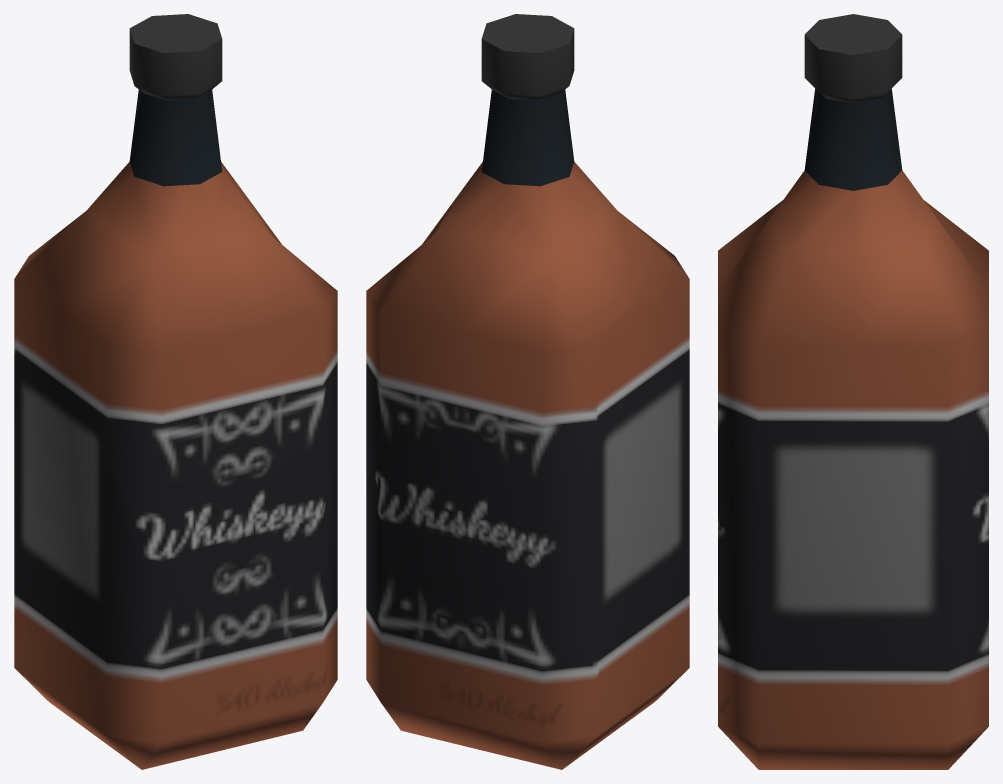
The model's file is Whiskey_01.fbx.
3 renders of one model, left to right at view 1: azimuth 30°, elevation 25°; view 2: azimuth 150°, elevation 25°; view 3: azimuth 270°, elevation 25°, orthographic.
Parts seen in each view (by area): view 1: Whiskey_01; view 2: Whiskey_01; view 3: Whiskey_01.
Boxes of the visible parts, <box> form: Whiskey_01: <box>14,14,337,769</box>; Whiskey_01: <box>366,14,689,769</box>; Whiskey_01: <box>718,14,988,769</box>.
Size of the model in its own units: 7.96 by 22.55 by 7.96.
